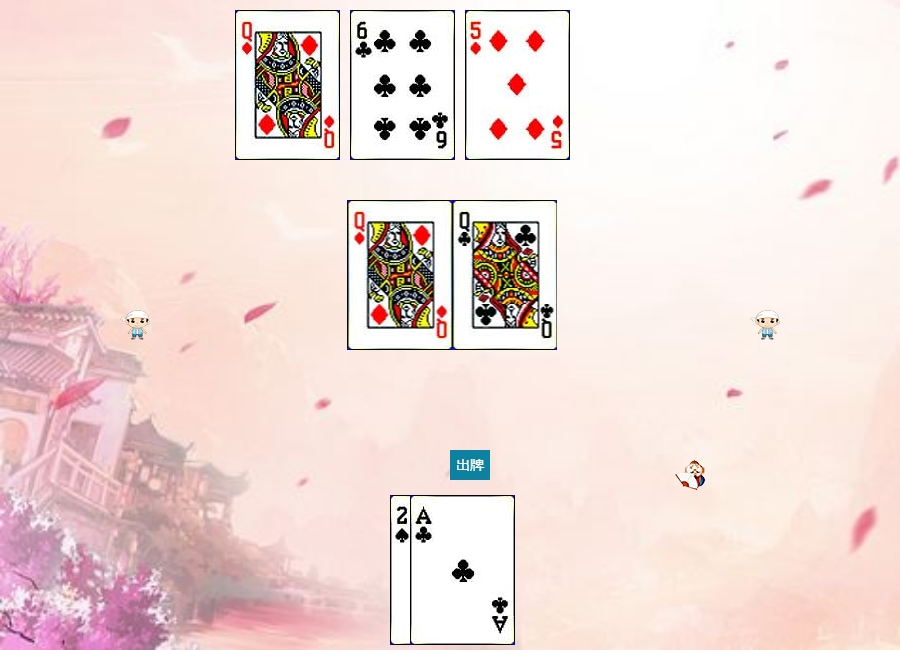12~1: (235, 10, 340, 160), (348, 200, 453, 350)
12~2: (453, 200, 558, 350)
14~2: (410, 495, 515, 645)
15~4: (390, 495, 495, 645)
5~1: (465, 10, 570, 160)
6~2: (350, 10, 455, 160)
